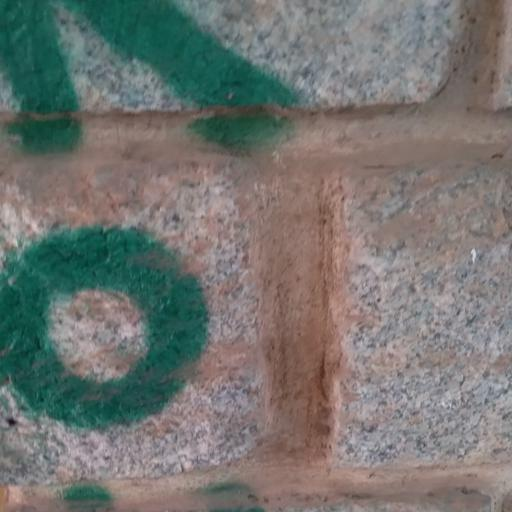stain: (1, 208, 223, 512), (0, 0, 300, 194), (0, 461, 273, 511)
